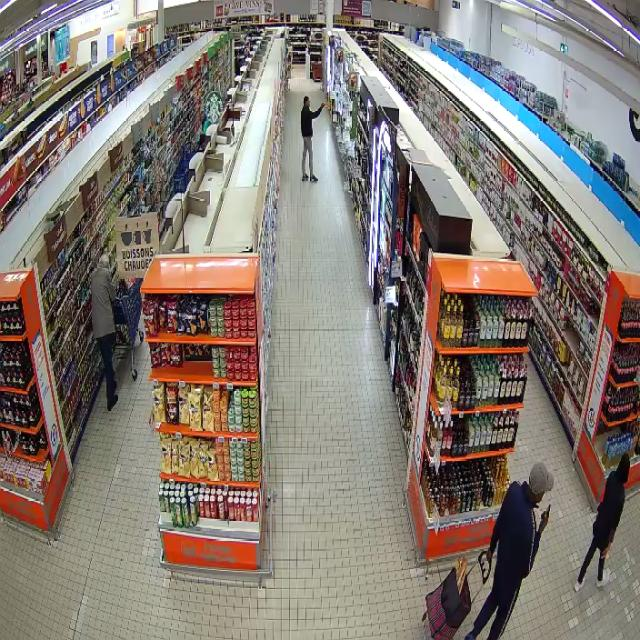article: (323, 102, 332, 107)
hands: (540, 509, 549, 534), (600, 544, 610, 558), (486, 548, 493, 562), (320, 102, 325, 108)
person: (465, 462, 552, 639), (575, 452, 629, 591), (300, 96, 324, 181)
